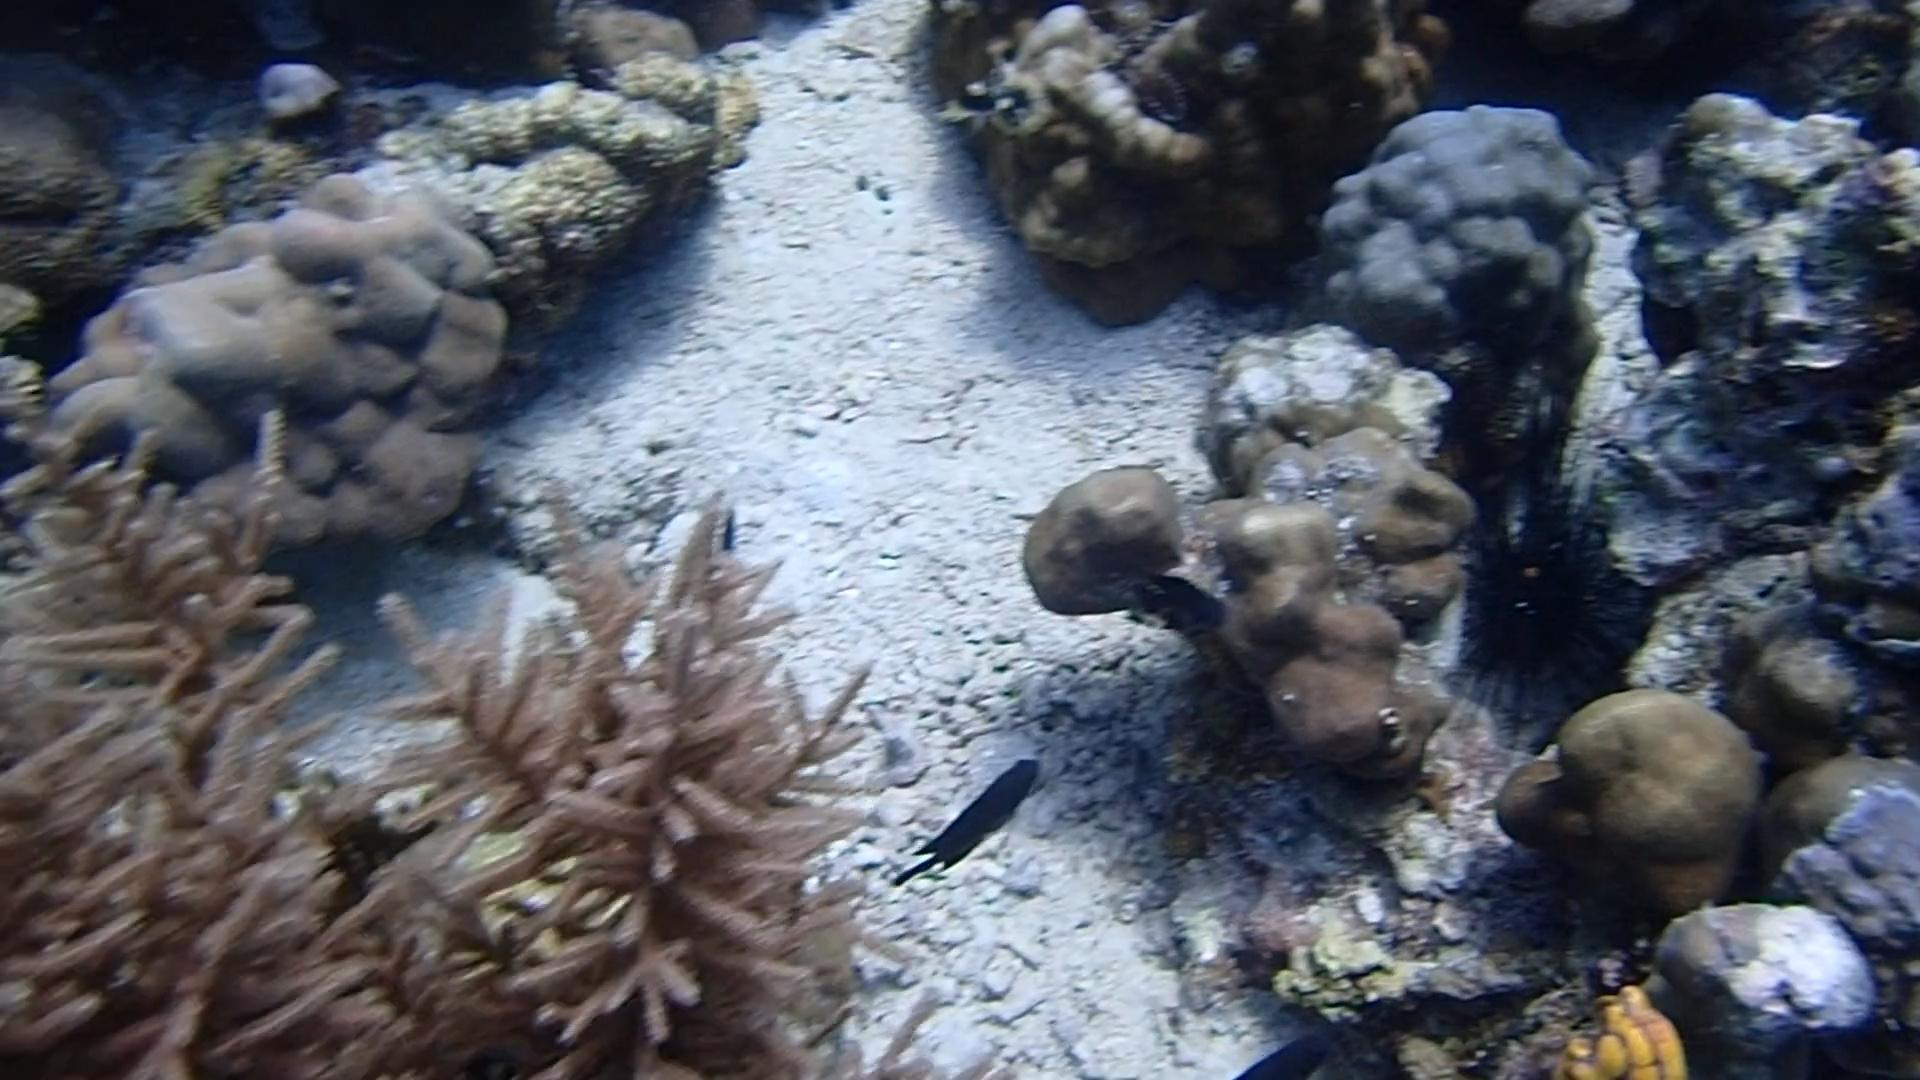Dark Fish: (889, 758, 1043, 889), (1129, 564, 1232, 641), (1222, 1030, 1337, 1080)
Yellow Tail: (934, 76, 1002, 131)
